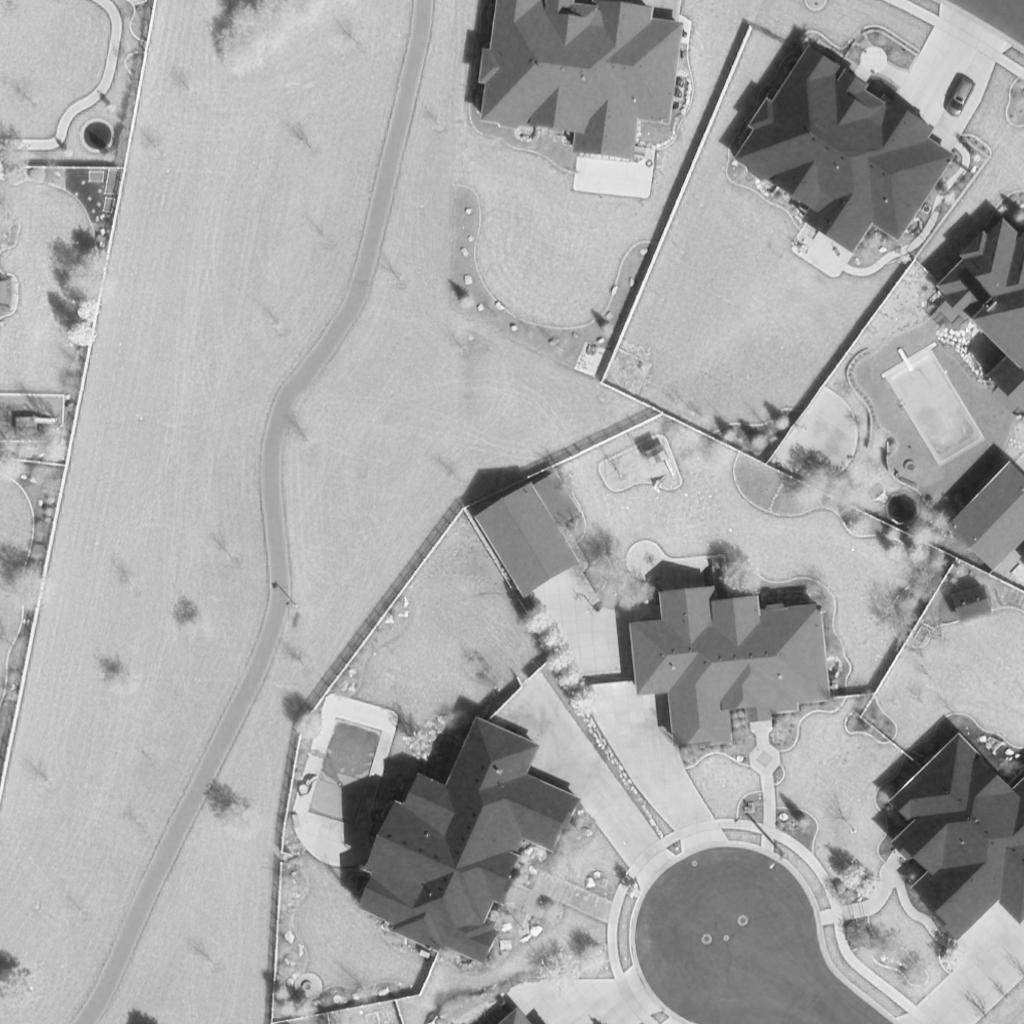vehicle: (944, 80, 976, 118)
